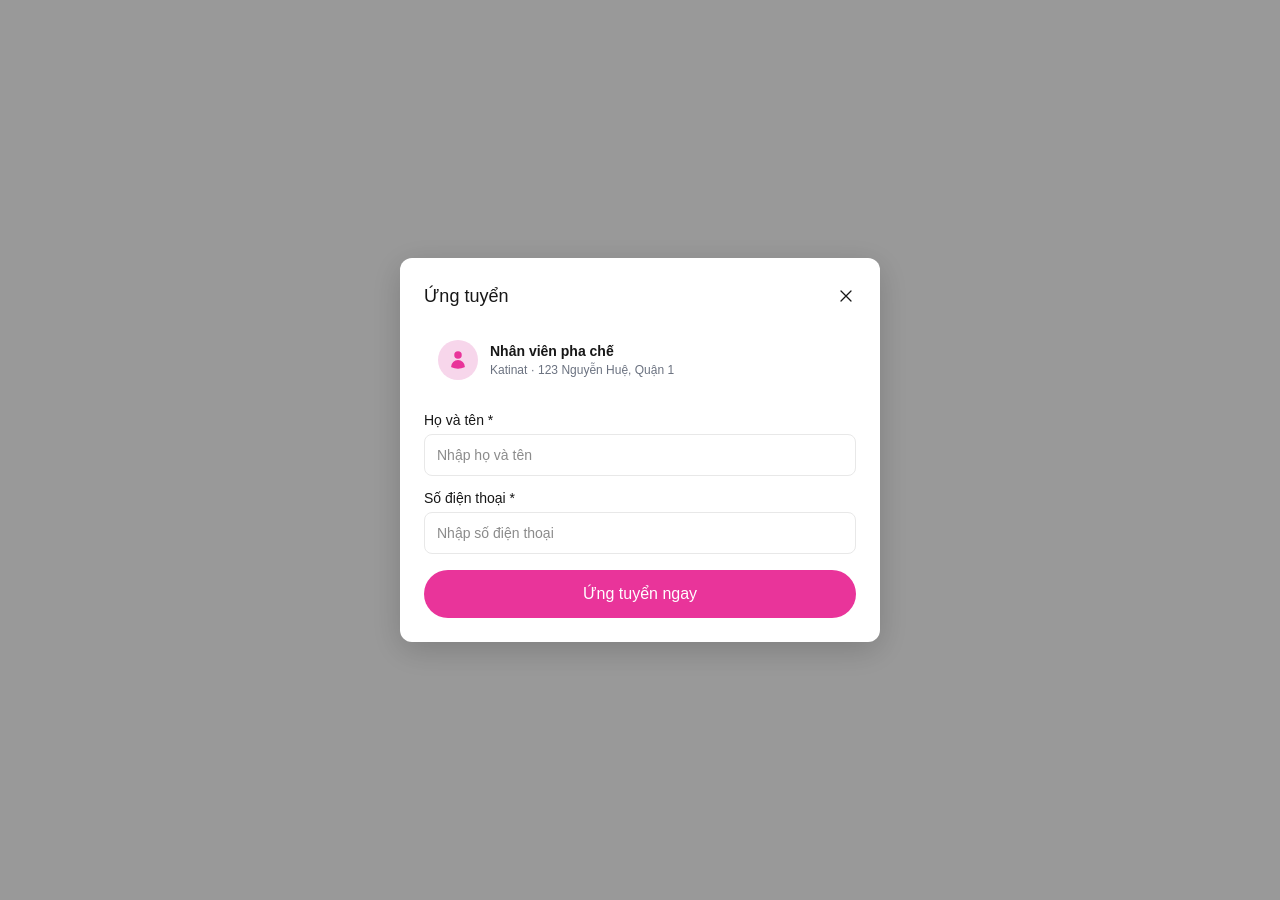
Test: ApplyModal › shows the duplicate-application error message on a 409
In the field labelled "Họ và tên *": point(640, 455) [424, 434, 856, 476], type "Nguyễn Văn A"
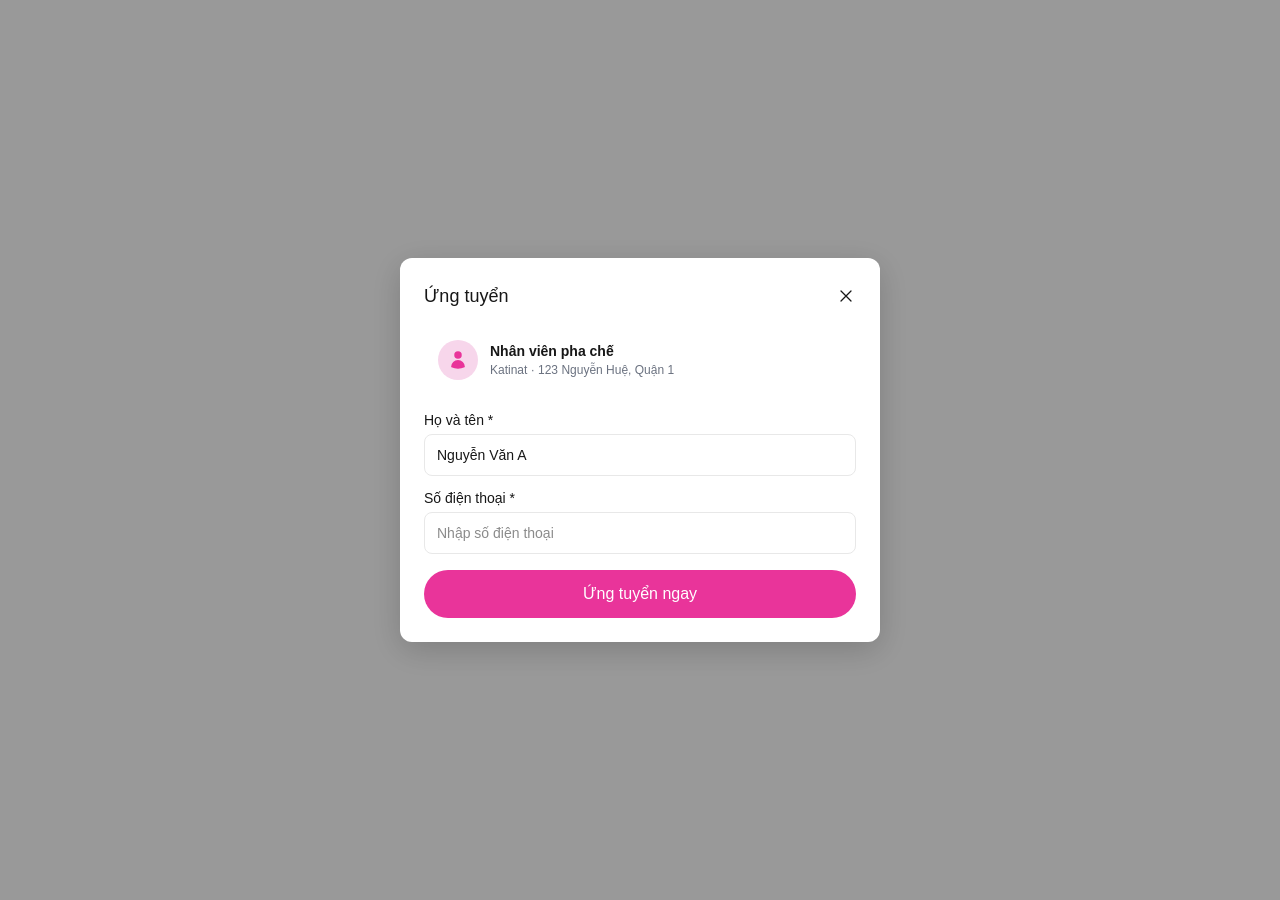
In the field labelled "Số điện thoại *": point(640, 533) [424, 512, 856, 554], type "0987654321"
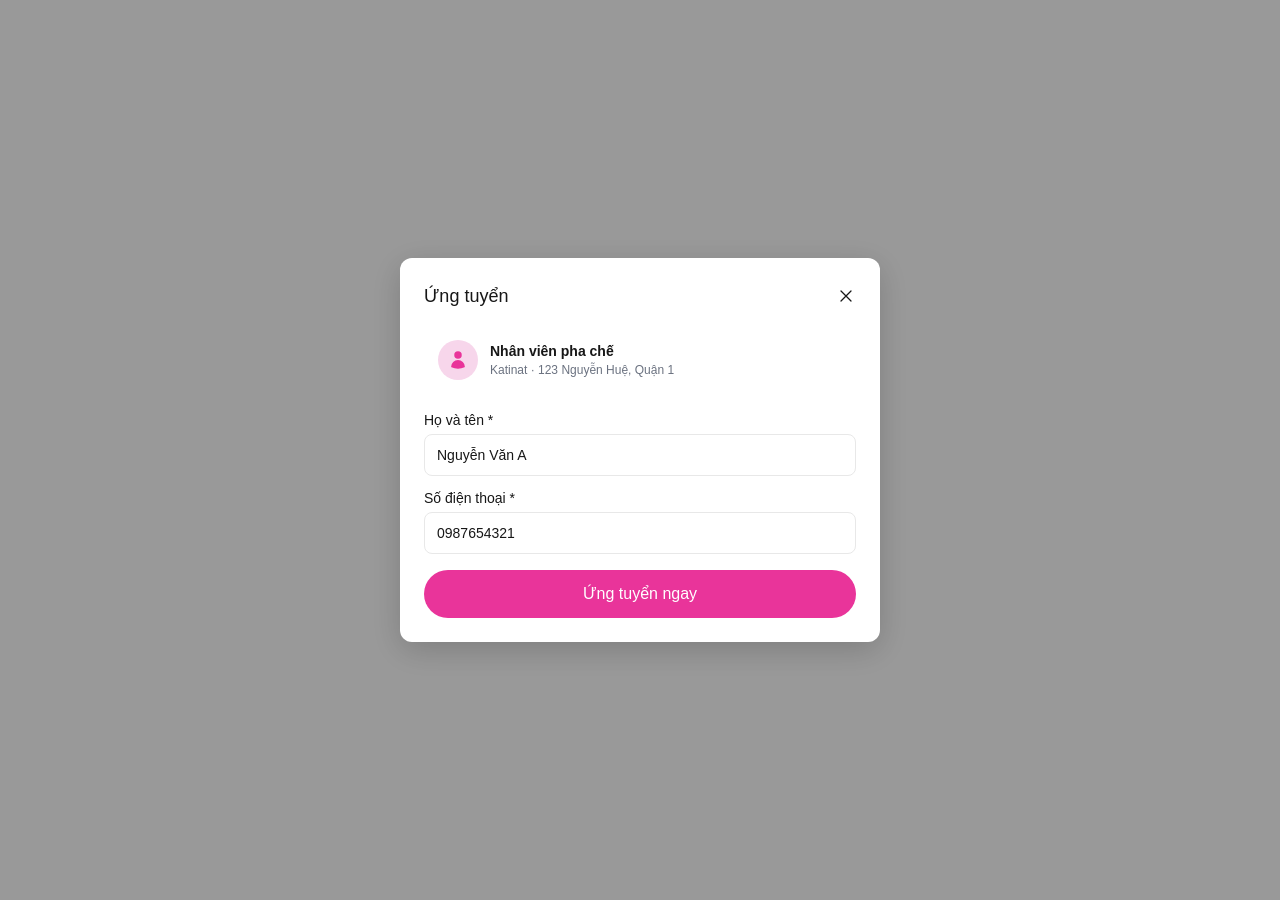
Click the button "Ứng tuyển ngay": point(640, 594) [424, 570, 856, 618]
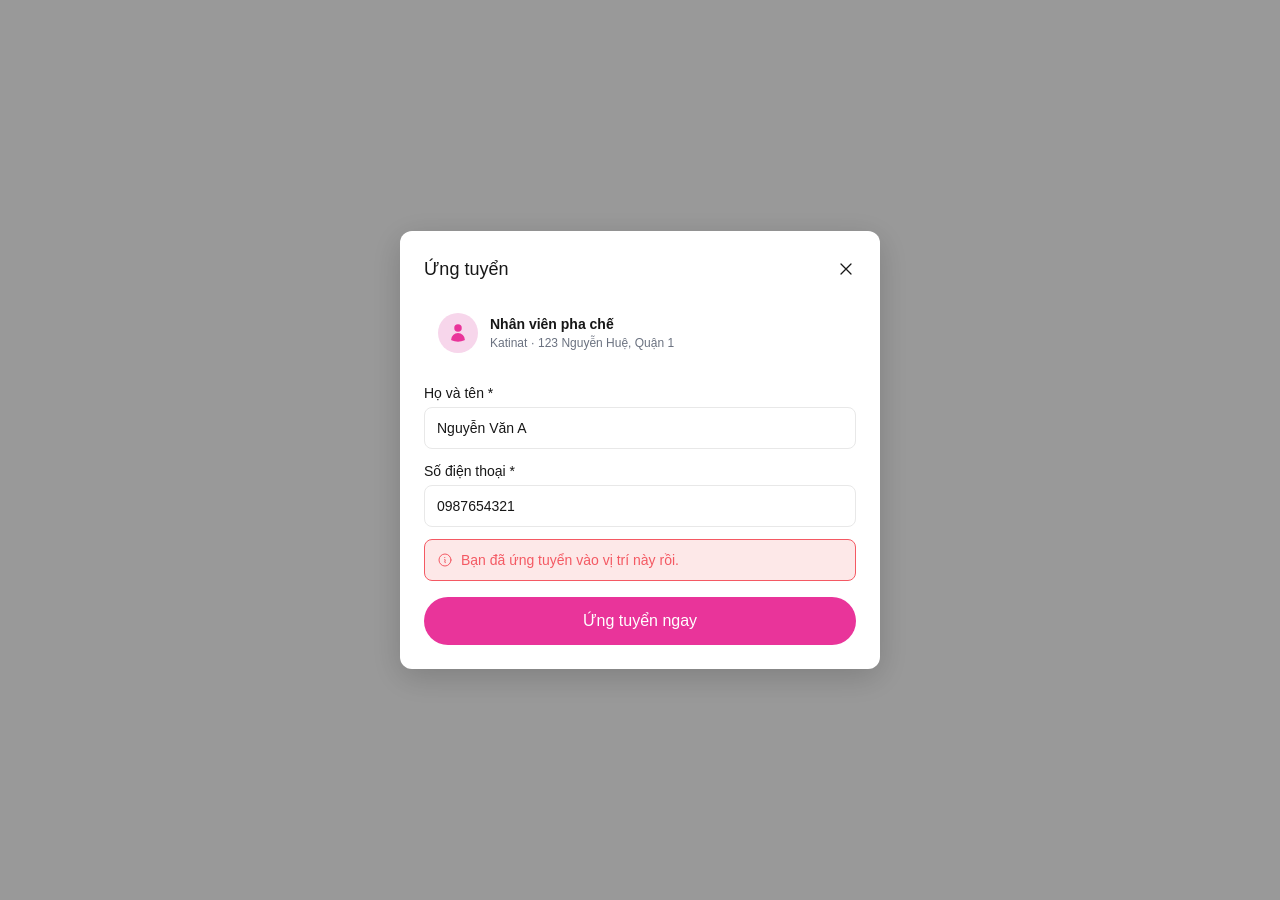
Now the text "Bạn đã ứng tuyển vào vị trí này rồi." is shown, box [461, 552, 679, 568]
